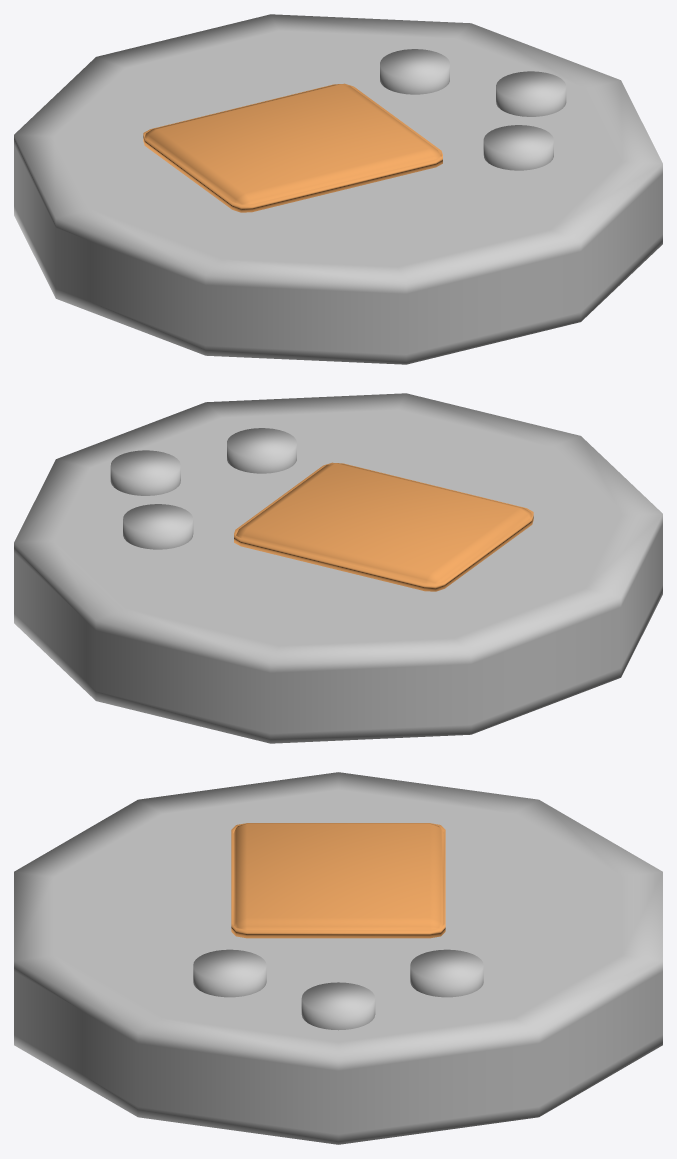
The model's file is High Poly Tiger Tamagotchi Example.fbx.
3 renders of one model, top to bottom at view 1: azimuth 30°, elevation 25°; view 2: azimuth 150°, elevation 25°; view 3: azimuth 270°, elevation 25°, orthographic. The views are drawn at different scales.
Parts seen in each view (by area): view 1: High Poly Tiger Tamagotchi Example; view 2: High Poly Tiger Tamagotchi Example; view 3: High Poly Tiger Tamagotchi Example.
Part boxes in pixels (x1,y1,x2,y2): High Poly Tiger Tamagotchi Example: [14, 14, 662, 364]; High Poly Tiger Tamagotchi Example: [14, 393, 662, 743]; High Poly Tiger Tamagotchi Example: [14, 772, 662, 1144].
Size of the model in its own units: 440 by 75.89 by 418.
